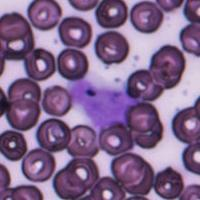M: (68, 75, 138, 130)
